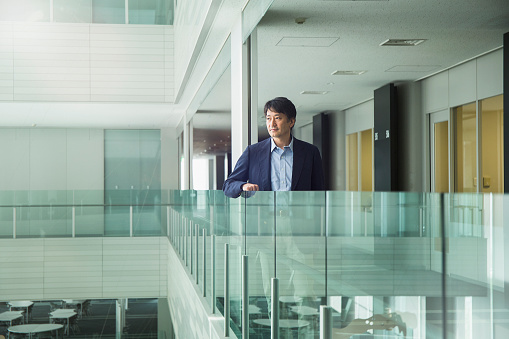em pe: (210, 93, 334, 204)
